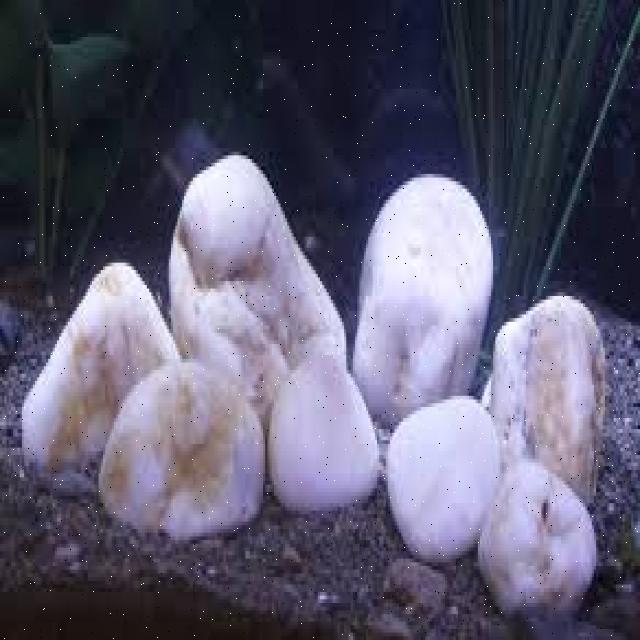Metamorphic: (2, 140, 640, 622)
